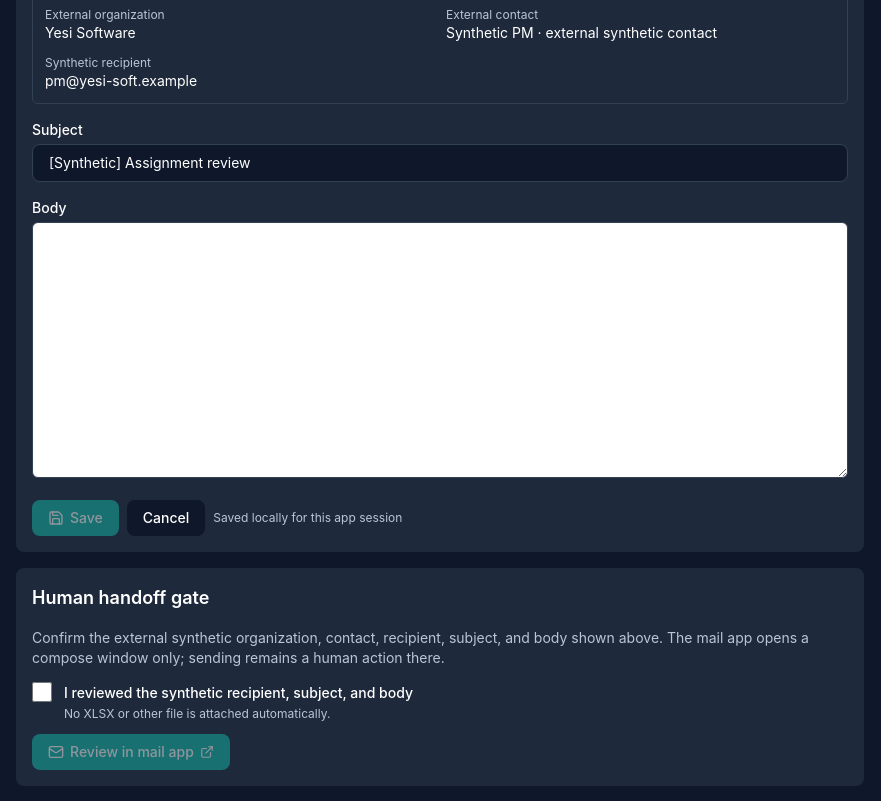
Test case: AssignmentEmailDraftPage (#9627) › one explicit confirmed action opens one compose window and never sends
This screenshot has width=881, height=801.
(page scrolled)
Step 1. Click the checkbox with test id "assignment-email-confirm" → coordinates (42, 692), box [32,682,52,702]
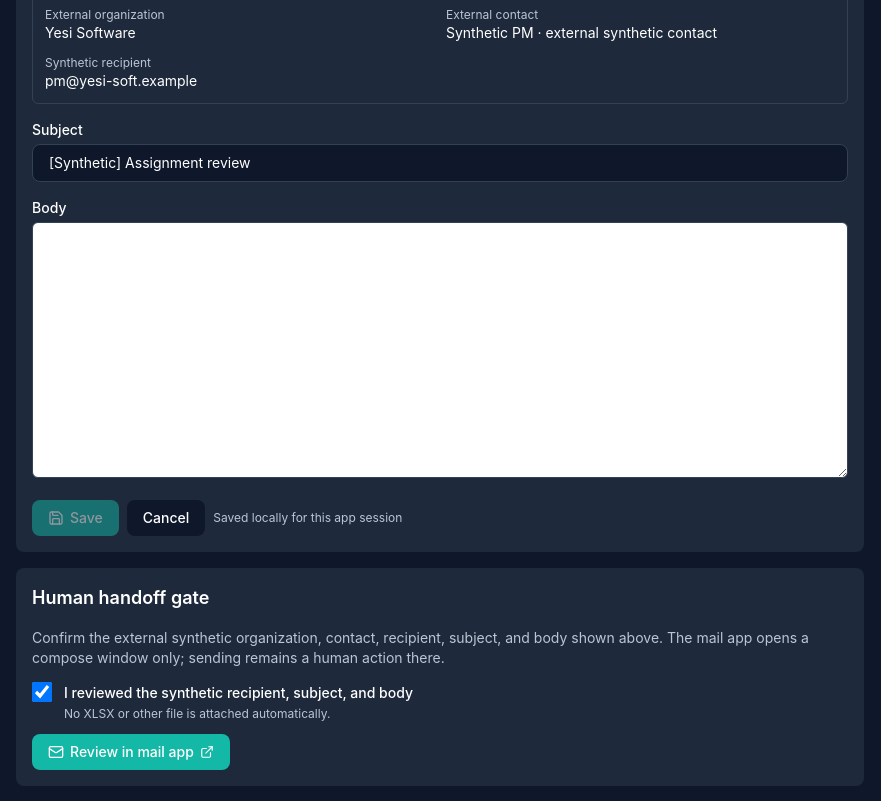
Step 2. Click the button with test id "assignment-email-handoff" → coordinates (131, 752), box [32,734,230,770]
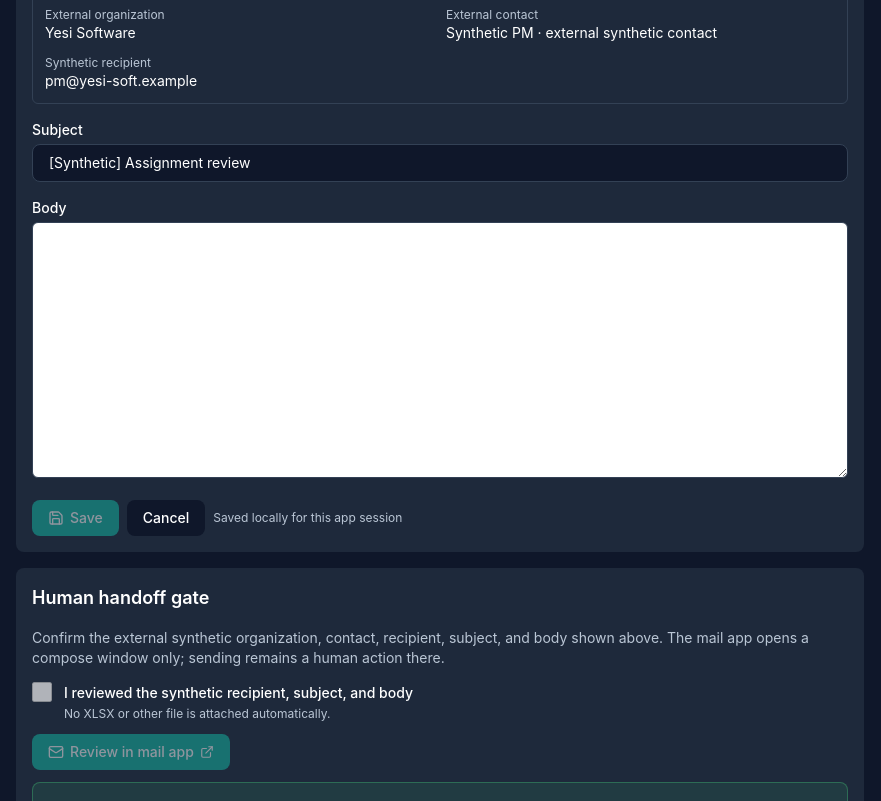
Now the button with test id "assignment-email-handoff" is disabled, box [32,734,230,770]
